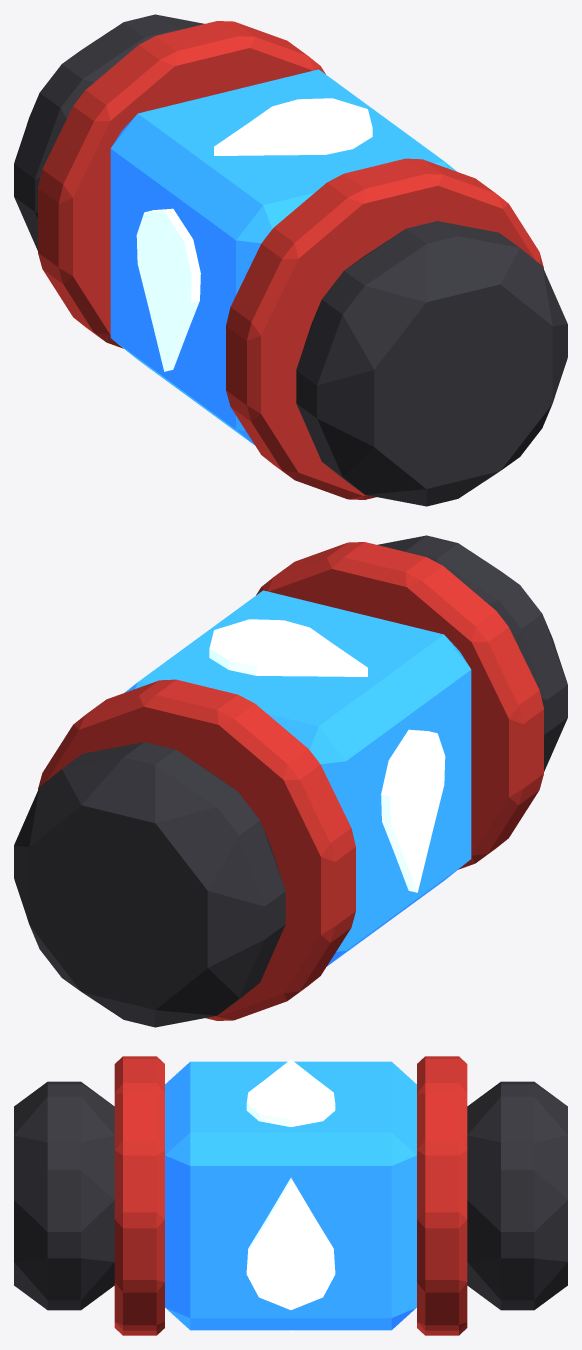
File: ElementCartridge_Water.fbx
3 views of the same model, one above another, from view 1: azimuth 30°, elevation 25°; view 2: azimuth 150°, elevation 25°; view 3: azimuth 270°, elevation 25° (orthographic). The views are drawn at different scales.
Visible parts, largest first — view 1: Cartridge_Water; view 2: Cartridge_Water; view 3: Cartridge_Water.
Part boxes in pixels (x1,y1,x2,y2): Cartridge_Water: (14,14,567,506); Cartridge_Water: (14,535,567,1027); Cartridge_Water: (14,1056,567,1335).
Size of the model in its own units: 0.0328 by 0.0328 by 0.066.
